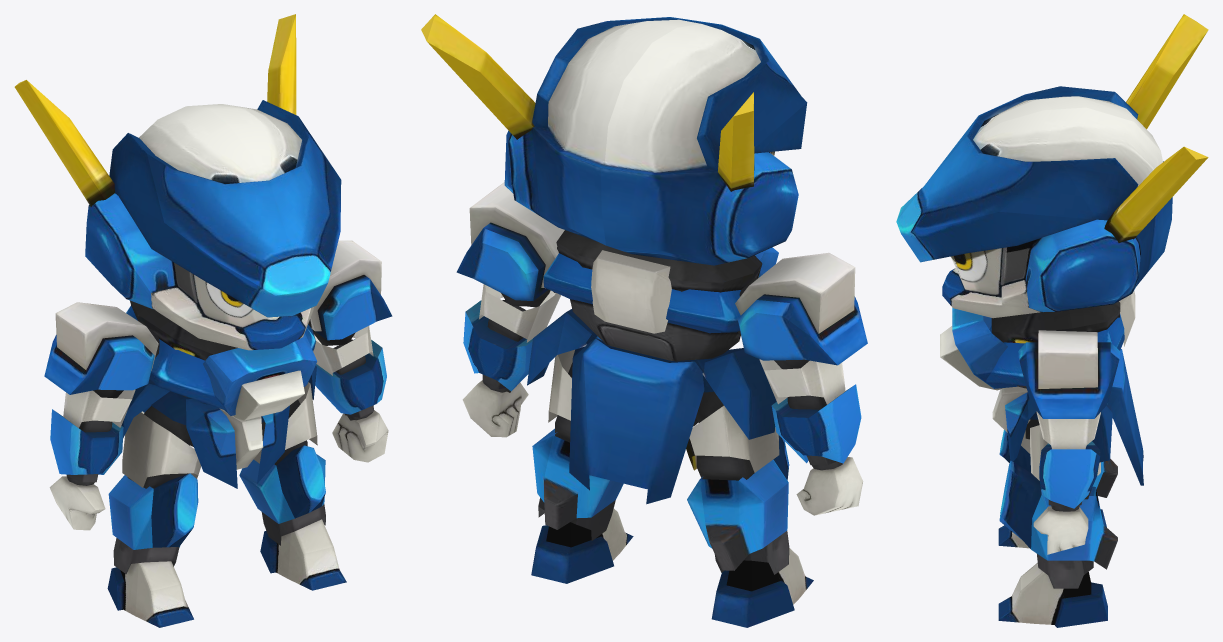
The model's file is blue_mecha.glb.
3 renders of one model, left to right at view 1: azimuth 30°, elevation 25°; view 2: azimuth 150°, elevation 25°; view 3: azimuth 270°, elevation 25°, orthographic. The views are drawn at different scales.
Visible parts, largest first — view 1: mecha; view 2: mecha; view 3: mecha.
Boxes of the visible parts, x1,y1,x2,y2 form: mecha: (14,14,392,627); mecha: (421,14,867,627); mecha: (896,14,1208,627).
Bounding box in the file's own units: 386 × 563 × 321.
Materials: 1 (1 with a texture image).
